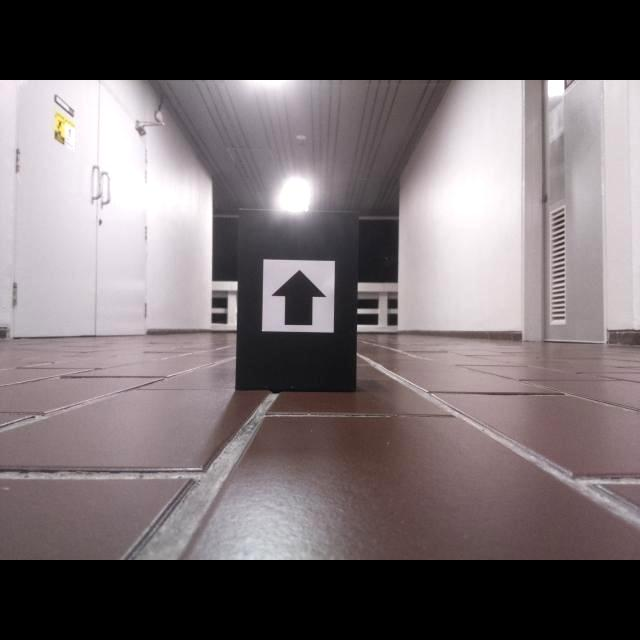UP: (270, 269, 326, 326)
